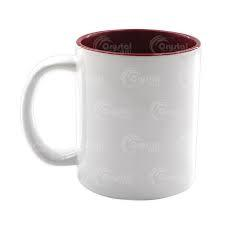Mug: (13, 21, 217, 203)
